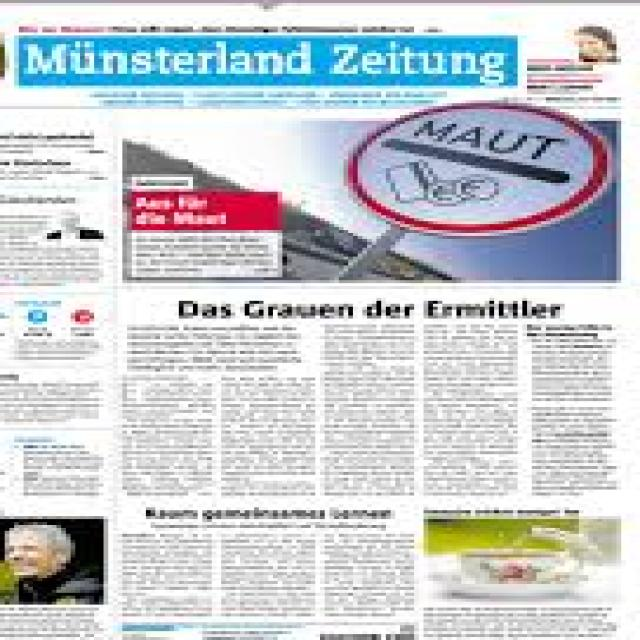organic: (7, 11, 613, 621)
